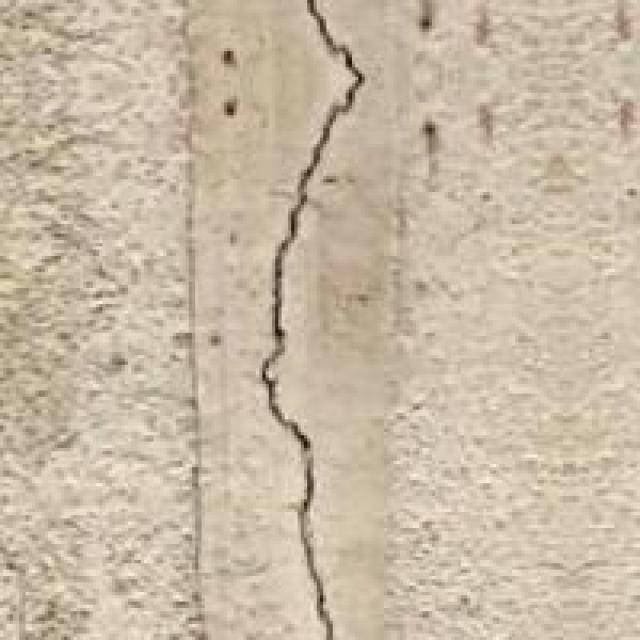Crack: (208, 0, 432, 637)
